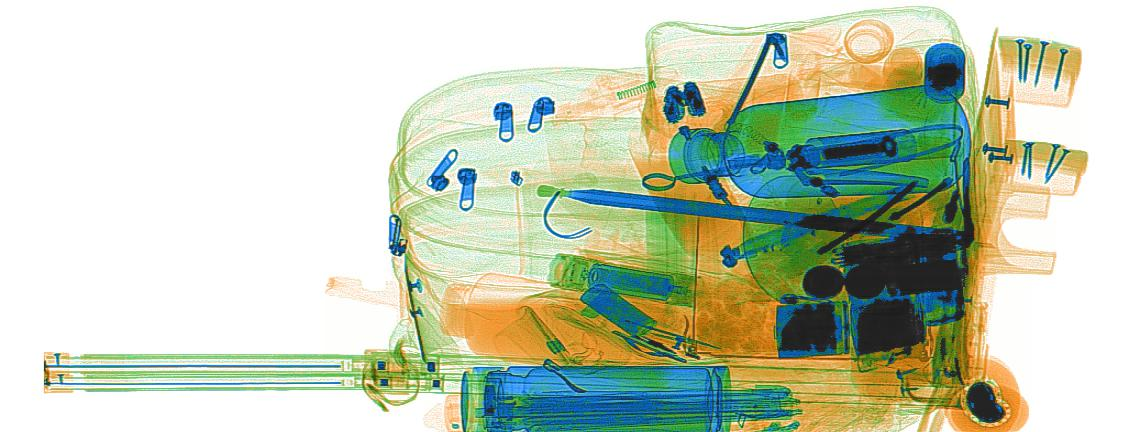battery: (578, 280, 656, 339), (585, 262, 675, 299), (920, 43, 968, 103)
plasticBottleWithaNozzle: (547, 63, 762, 268)
